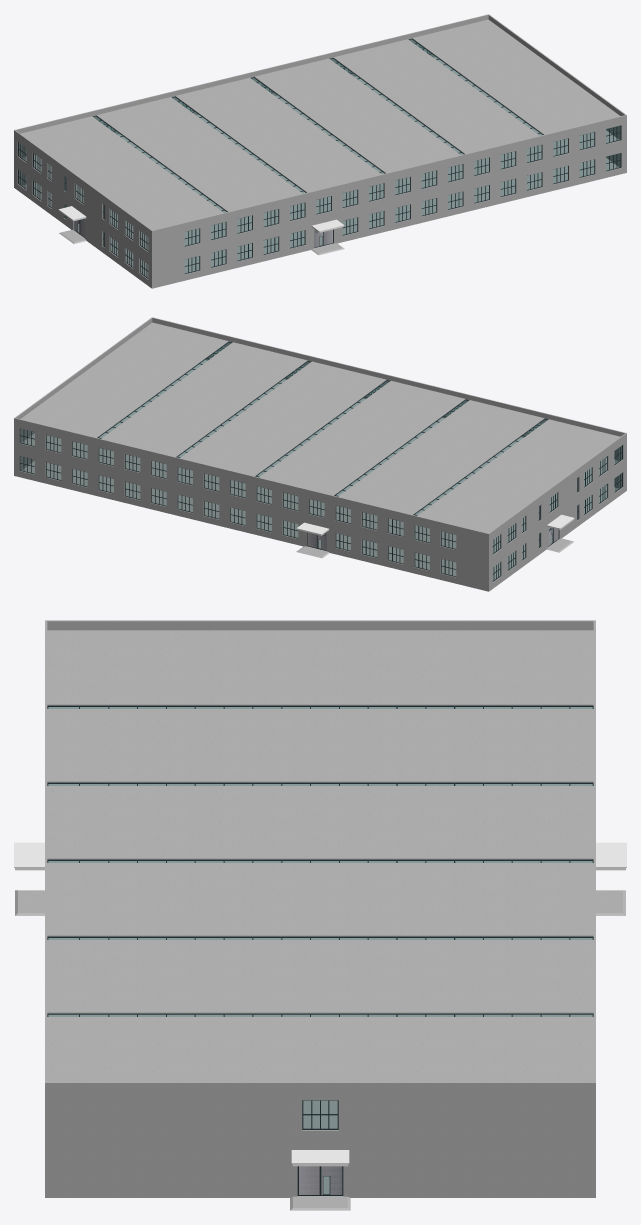
Rendered from changfangbaise.fbx.
3 views of the same model, one above another, from view 1: azimuth 30°, elevation 25°; view 2: azimuth 150°, elevation 25°; view 3: azimuth 270°, elevation 25° (orthographic). The views are drawn at different scales.
Visible parts, largest first — view 1: Box2166, Box02, Box01, Box03, Box1822, Box1836, Box1835, Rectangle1678; view 2: Box2166, Box02, Box01, Box03, Box1822, Box1836, Box1835, Rectangle1678; view 3: Box2166, Box02, Box01, Box03, Box1822, Box1836, Box1835, Rectangle1678.
Part boxes in pixels (x1,y1,x2,y2): Box2166: (20,19,620,230); Box02: (14,14,626,288); Box01: (19,39,620,277); Box03: (22,57,618,277); Box1822: (18,38,621,278); Box1836: (58,206,344,232); Box1835: (59,230,344,255); Rectangle1678: (74,218,332,247); Box2166: (20,322,620,533); Box02: (14,317,626,591); Box01: (20,342,621,580); Box03: (22,360,618,580); Box1822: (19,341,622,581); Box1836: (296,514,574,535); Box1835: (296,538,573,558); Rectangle1678: (308,527,558,550); Box2166: (47,630,593,1081); Box02: (45,620,595,1197); Box01: (48,707,592,1194); Box03: (48,707,592,1194); Box1822: (47,705,593,1195); Box1836: (14,842,626,1166); Box1835: (15,890,625,1210); Rectangle1678: (299,1166,342,1194).
Bounding box in the file's own units: 91.49 × 10.04 × 48.48.
Materials: 6 (2 with a texture image).
